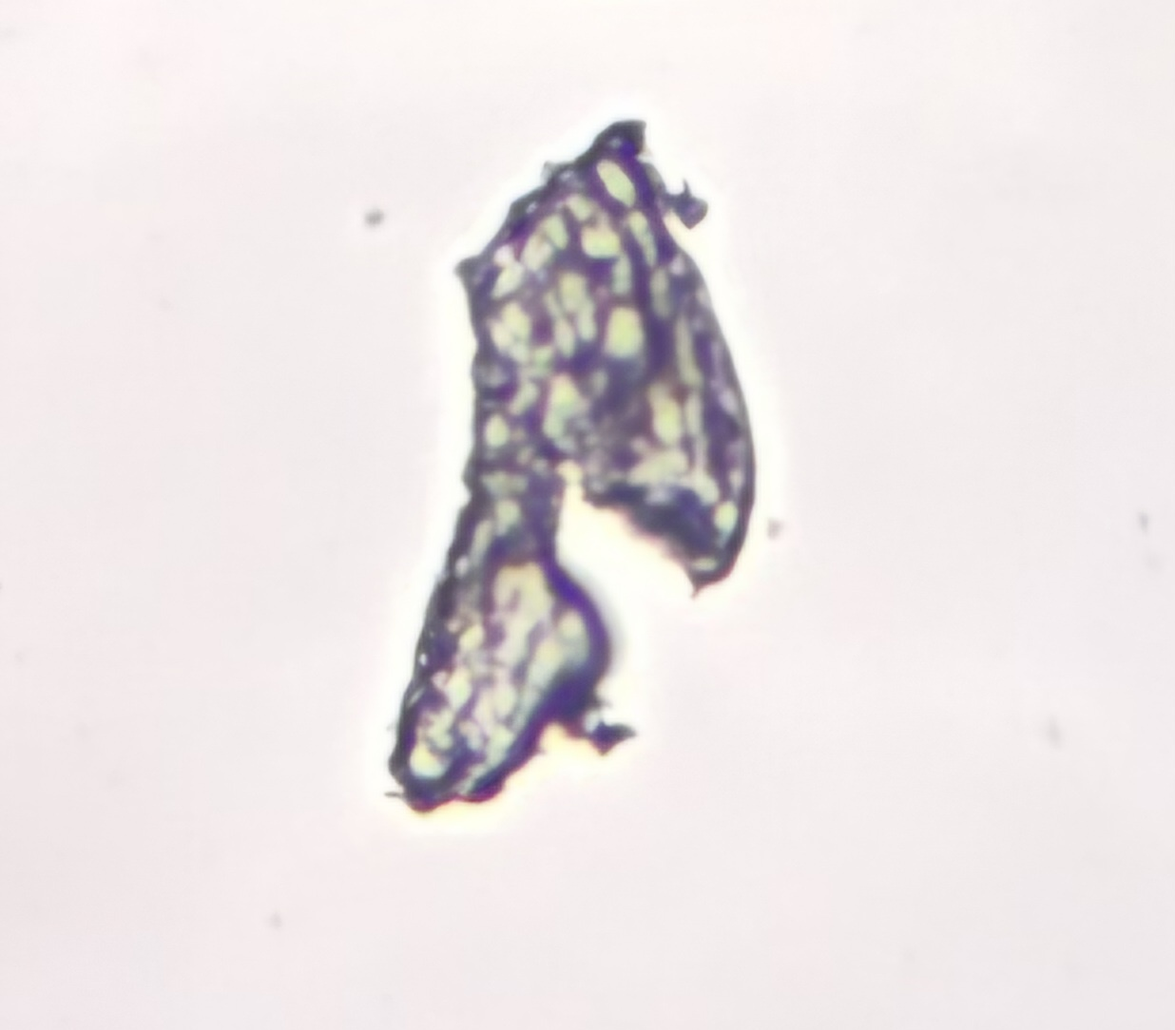microplastic: (382, 118, 755, 815)
